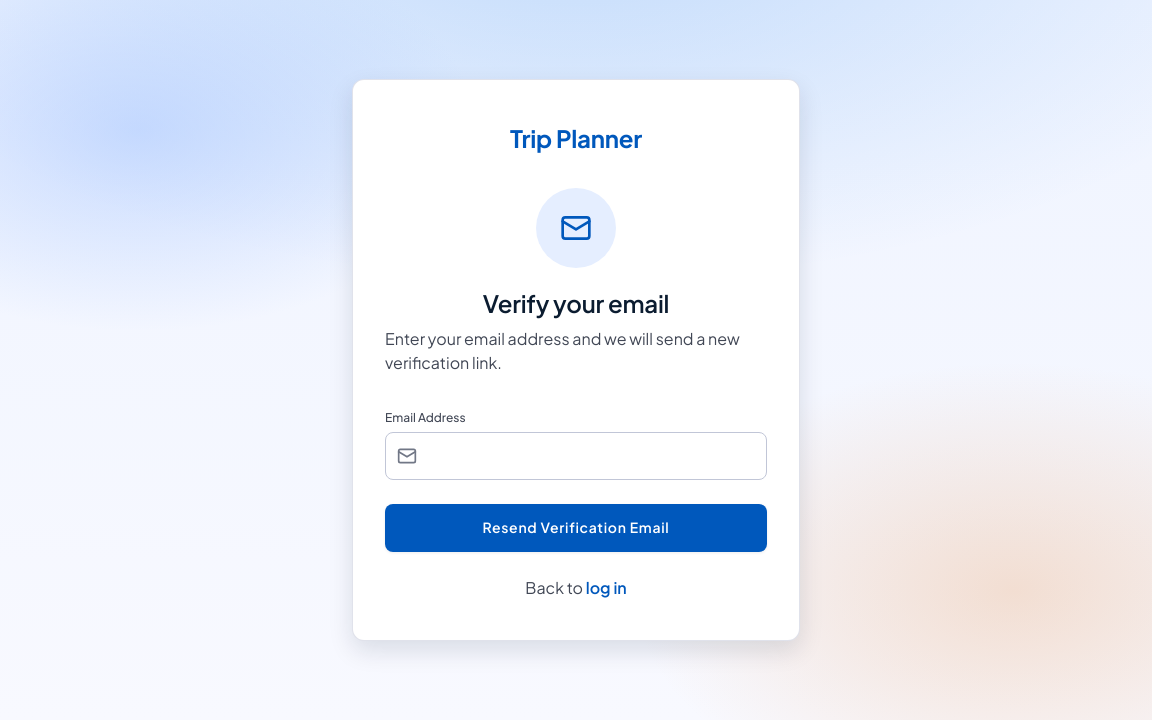
it: VerifyEmailPage › swaps the resend label to the pending phrase with aria-disabled and ignores re-submits
In the field labelled "Email Address": (576, 456) [385,432,767,480], type "user@example.com"
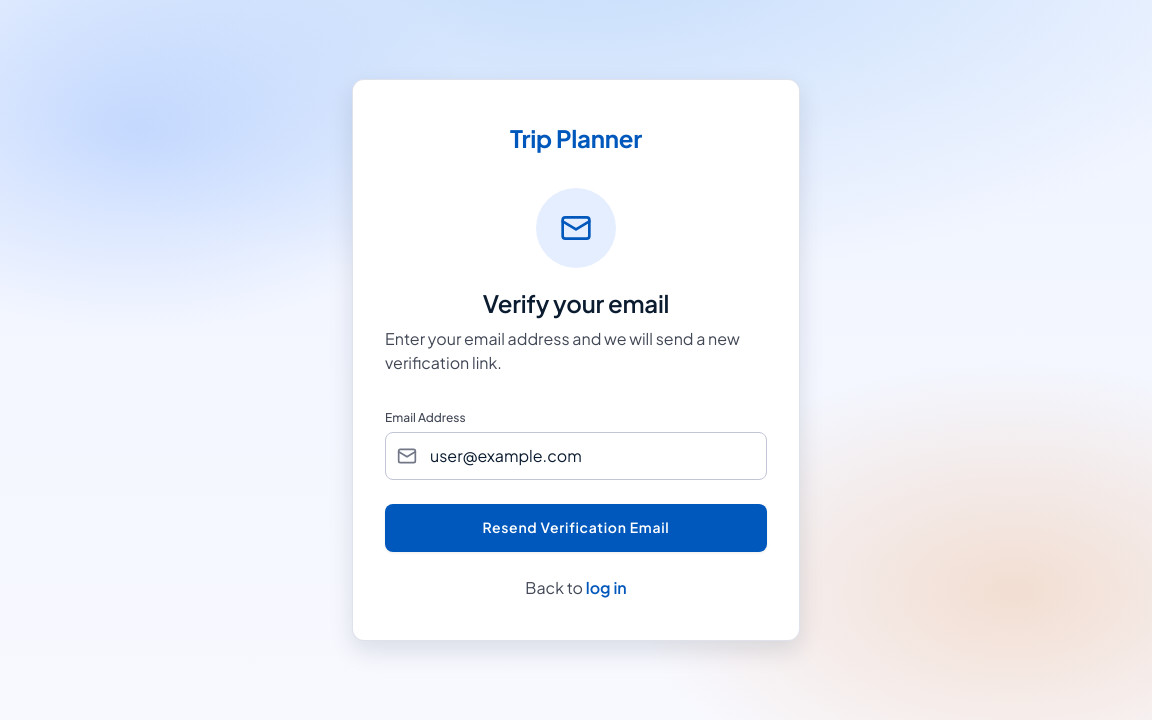
Click the button "Resend Verification Email": (576, 528) [385,504,767,552]
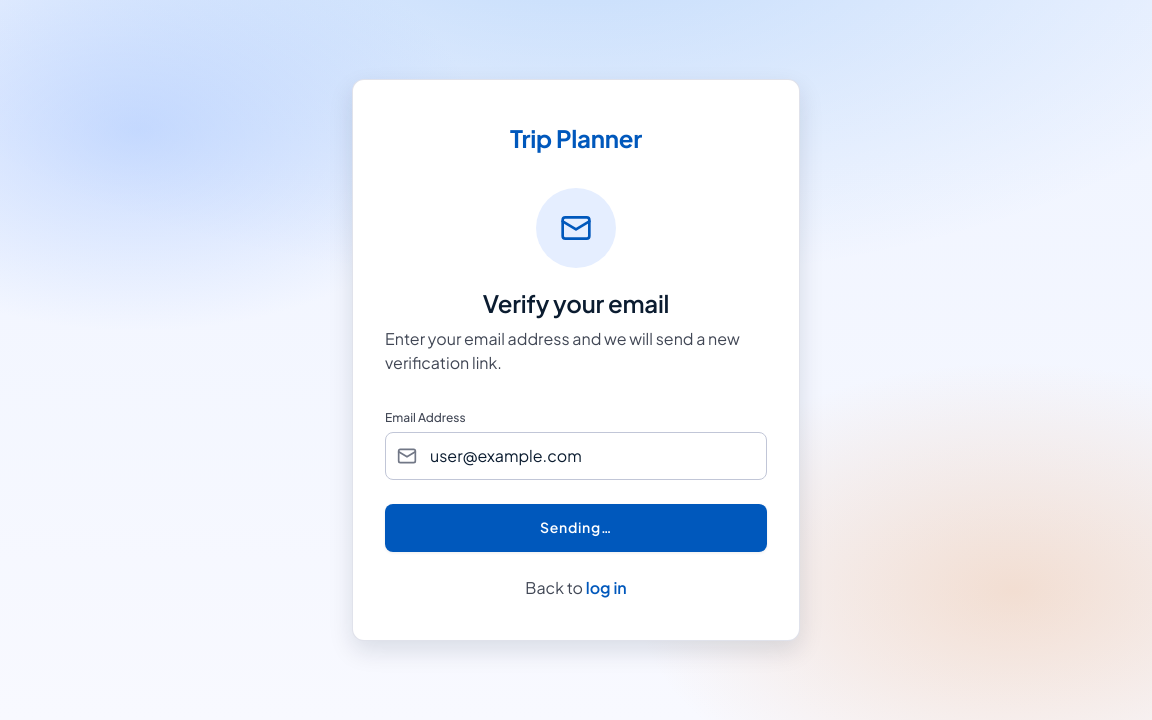
Now the button "Sending…" is enabled
Click the button "Sending…": (576, 528) [385,504,767,552]
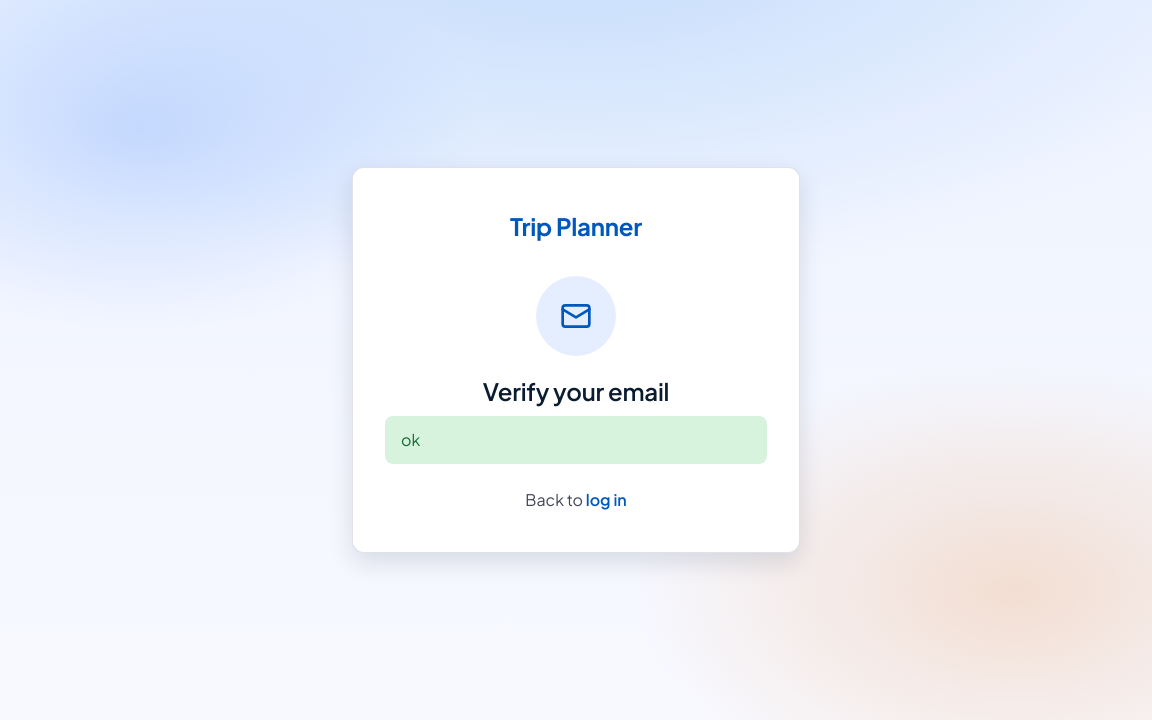
Now the text "ok" is shown, box [385,416,767,464]
